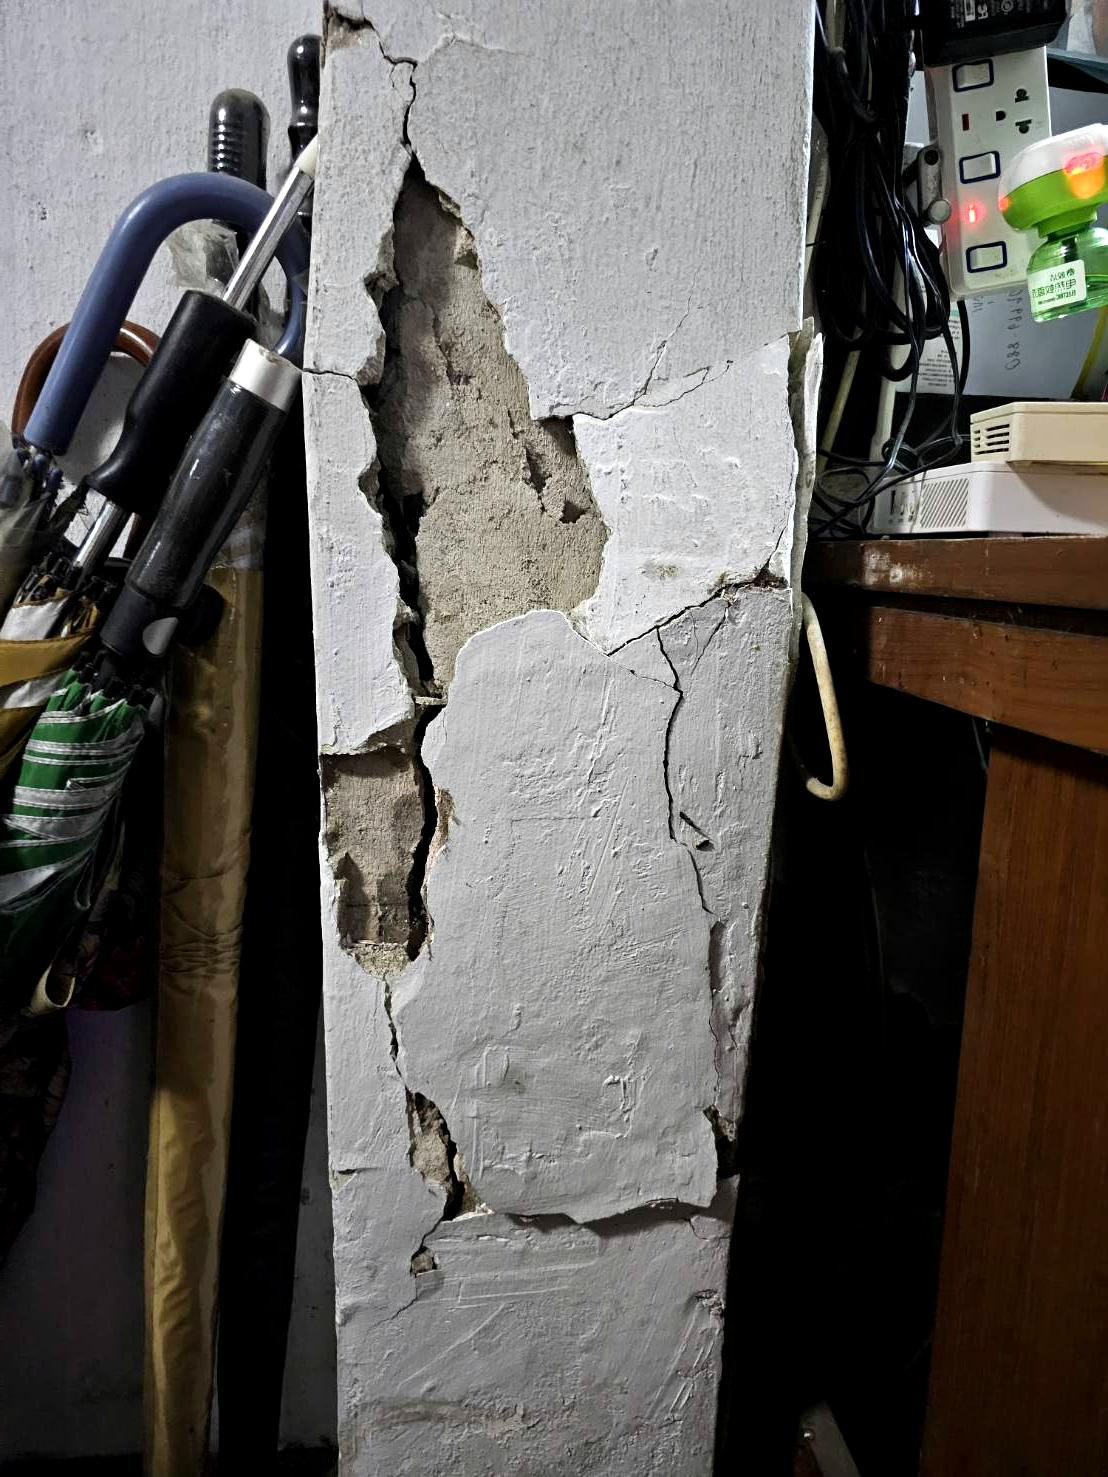High: (308, 5, 825, 1341)
